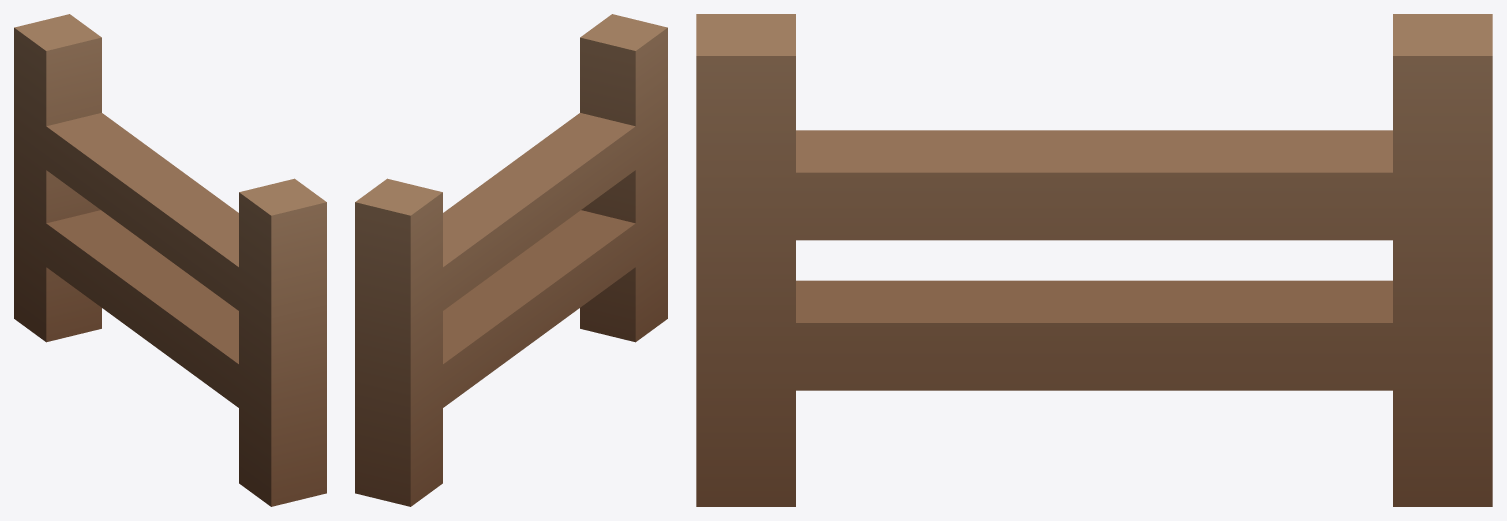
The model's file is fence.fbx.
3 views of the same model, side by side, from view 1: azimuth 30°, elevation 25°; view 2: azimuth 150°, elevation 25°; view 3: azimuth 270°, elevation 25° (orthographic). The views are drawn at different scales.
Visible parts, largest first — view 1: fence; view 2: fence; view 3: fence.
Part boxes in pixels (x1,y1,x2,y2): fence: [14, 14, 326, 506]; fence: [355, 14, 667, 506]; fence: [696, 14, 1492, 506].
Bounding box in the file's own units: 20 × 100 × 160.
